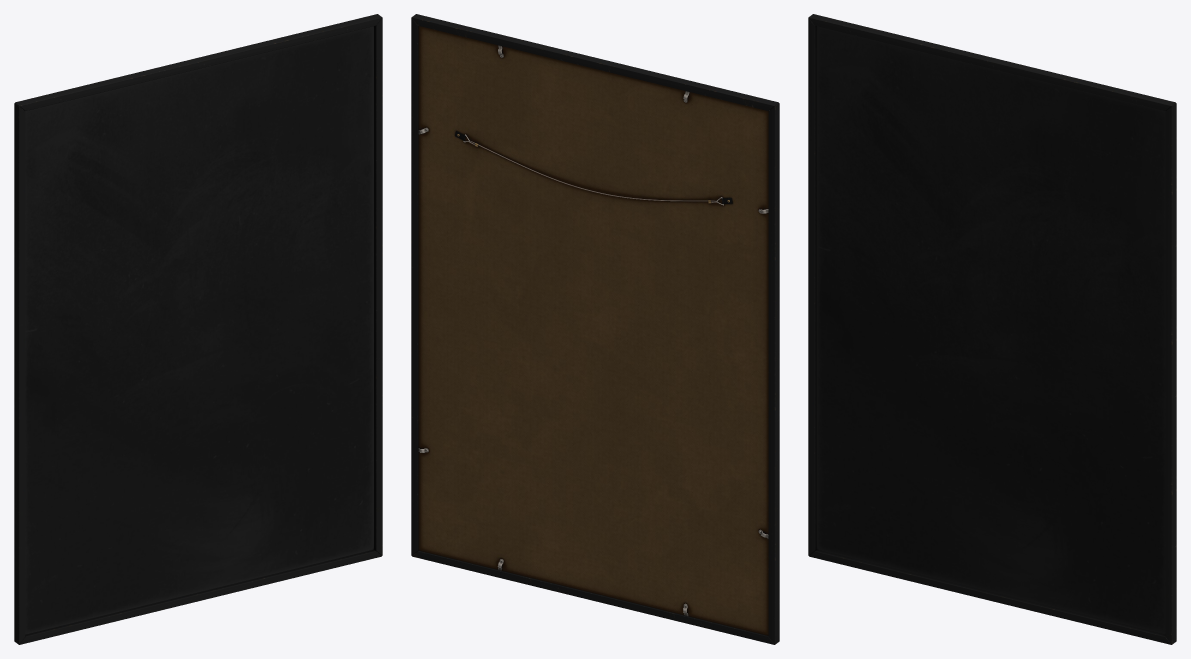
File: hanging_picture_frame_01.gltf
The picture shows the model from 3 angles, left to right: view 1: azimuth 30°, elevation 25°; view 2: azimuth 150°, elevation 25°; view 3: azimuth 330°, elevation 25°; orthographic projection.
Parts seen in each view (by area): view 1: hanging_picture_frame_01; view 2: hanging_picture_frame_01; view 3: hanging_picture_frame_01.
Part boxes in pixels (left/top/right/bottom): hanging_picture_frame_01: left=14, top=14, right=382, bottom=644; hanging_picture_frame_01: left=411, top=14, right=779, bottom=644; hanging_picture_frame_01: left=808, top=14, right=1176, bottom=644.
Size of the model in its own units: 0.594 by 0.841 by 0.0157.
Materials: 3 (3 with a texture image).
